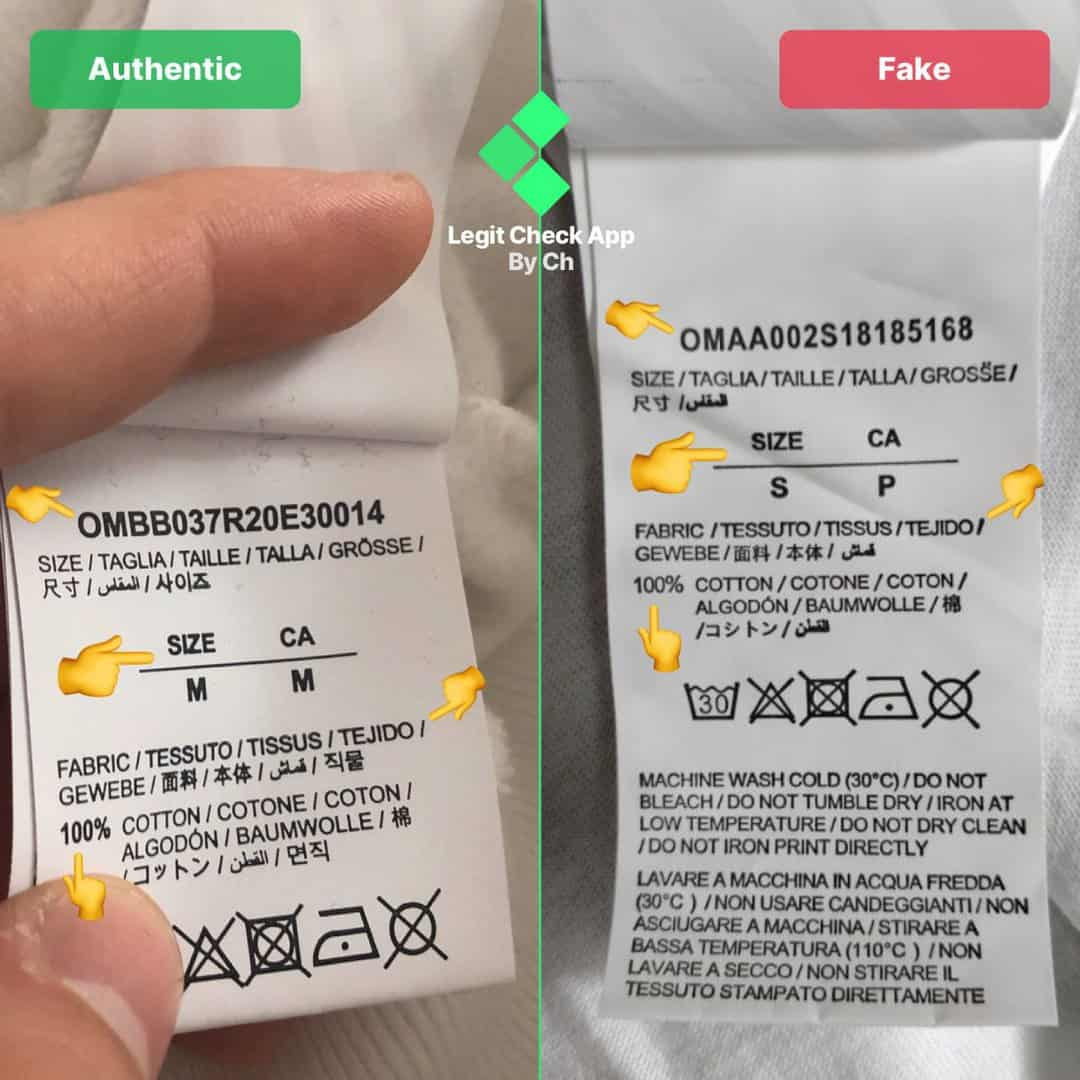ER_iron_low_temp: (310, 901, 382, 966), (860, 669, 920, 725)
ER_no_bleach: (181, 924, 241, 990), (746, 672, 797, 728)
ER_no_dry_clean: (379, 893, 450, 961), (927, 670, 977, 728)
ER_no_tumble_dry: (240, 908, 306, 980), (801, 665, 855, 724)
ER_wash_40: (681, 676, 745, 724)
